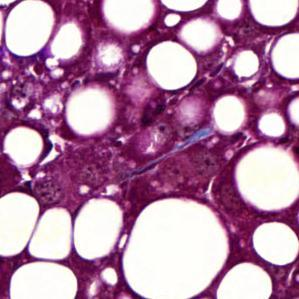steatosis: (121, 195, 230, 297), (3, 0, 54, 58), (11, 260, 79, 299), (148, 41, 198, 93), (253, 219, 299, 267), (217, 263, 273, 299), (248, 0, 299, 28), (271, 30, 299, 80)
